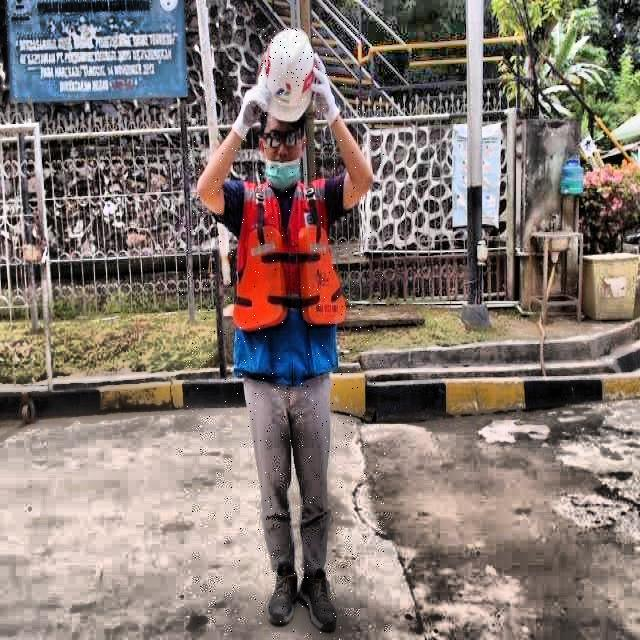safety_helmet: (260, 28, 316, 120)
safety_jacket: (230, 178, 343, 373)
